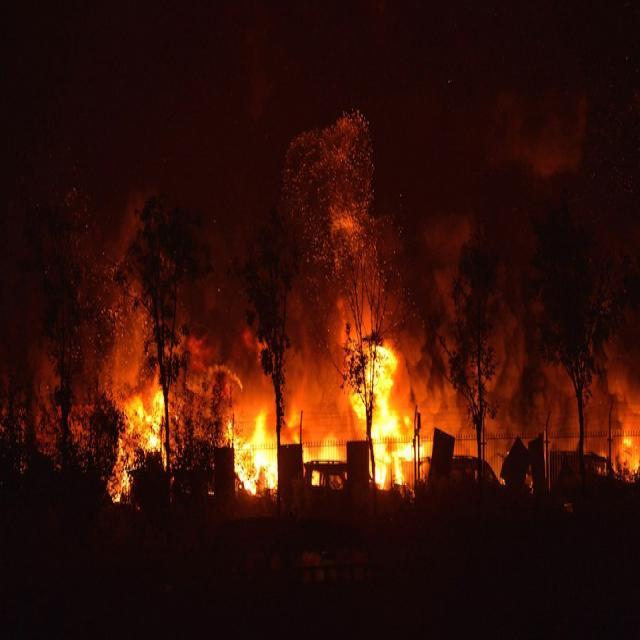Smoke: (382, 228, 489, 464), (492, 262, 586, 449), (254, 292, 359, 424), (100, 194, 154, 378)
